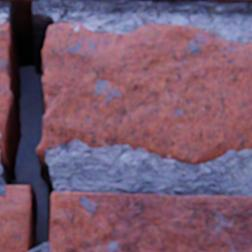brick: (50, 192, 251, 251), (0, 186, 30, 251), (138, 0, 251, 3), (0, 0, 38, 2)
broken_brick: (36, 23, 251, 164), (0, 23, 12, 149)
crack: (0, 2, 55, 250)
